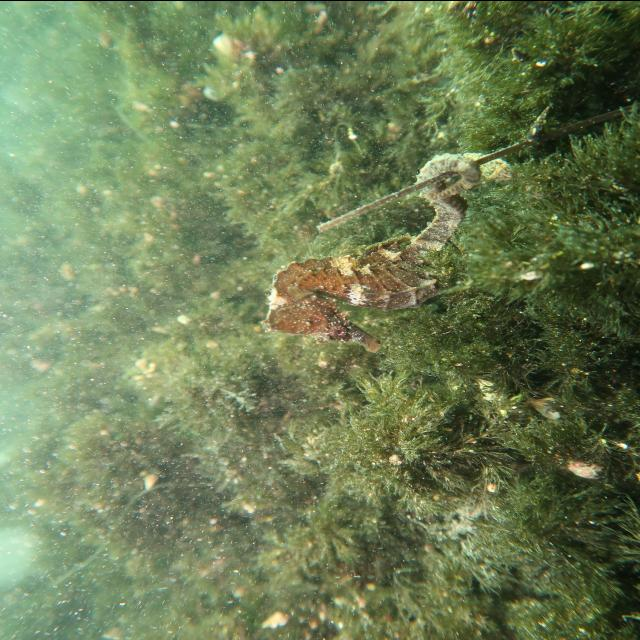Hippo: (258, 290, 390, 358)
